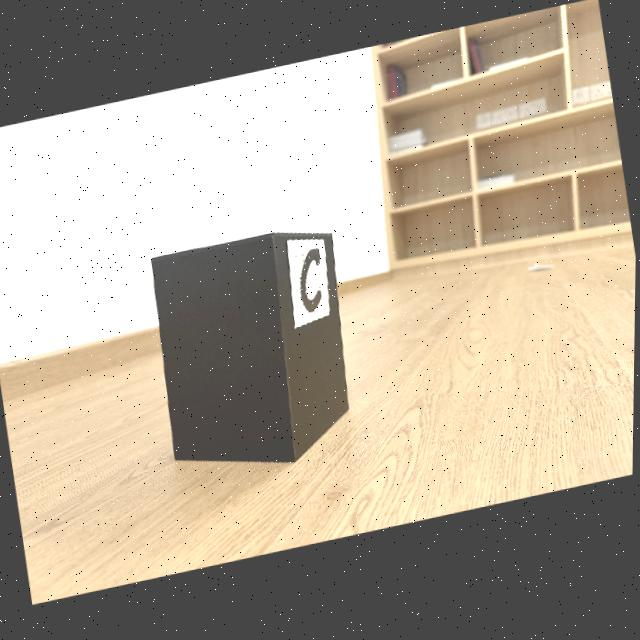C: (301, 253, 324, 316)
